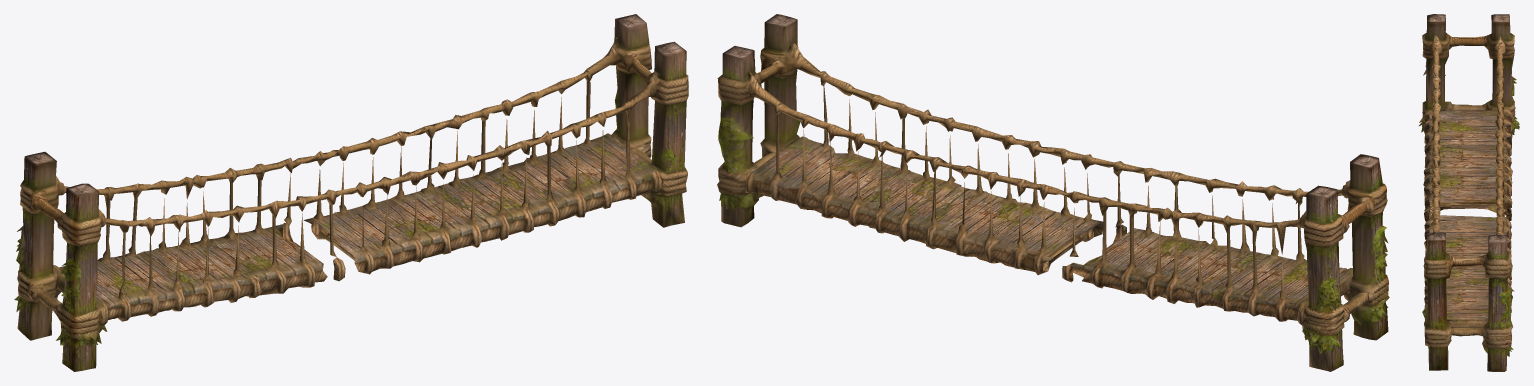
File: hanging_bridge.glb
3 renders of one model, left to right at view 1: azimuth 30°, elevation 25°; view 2: azimuth 150°, elevation 25°; view 3: azimuth 270°, elevation 25°, orthographic. The views are drawn at different scales.
Parts seen in each view (by area): view 1: wooden rope bridge 3d model; view 2: wooden rope bridge 3d model; view 3: wooden rope bridge 3d model.
Boxes of the visible parts, left/top/right/bottom form: wooden rope bridge 3d model: left=14, top=14, right=688, bottom=371; wooden rope bridge 3d model: left=717, top=14, right=1389, bottom=371; wooden rope bridge 3d model: left=1419, top=14, right=1519, bottom=371.
Size of the model in its own units: 15.71 by 4.2 by 2.91.
Materials: 1 (1 with a texture image).
